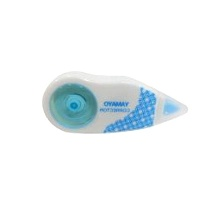correction_fluid: (41, 69, 191, 138)
